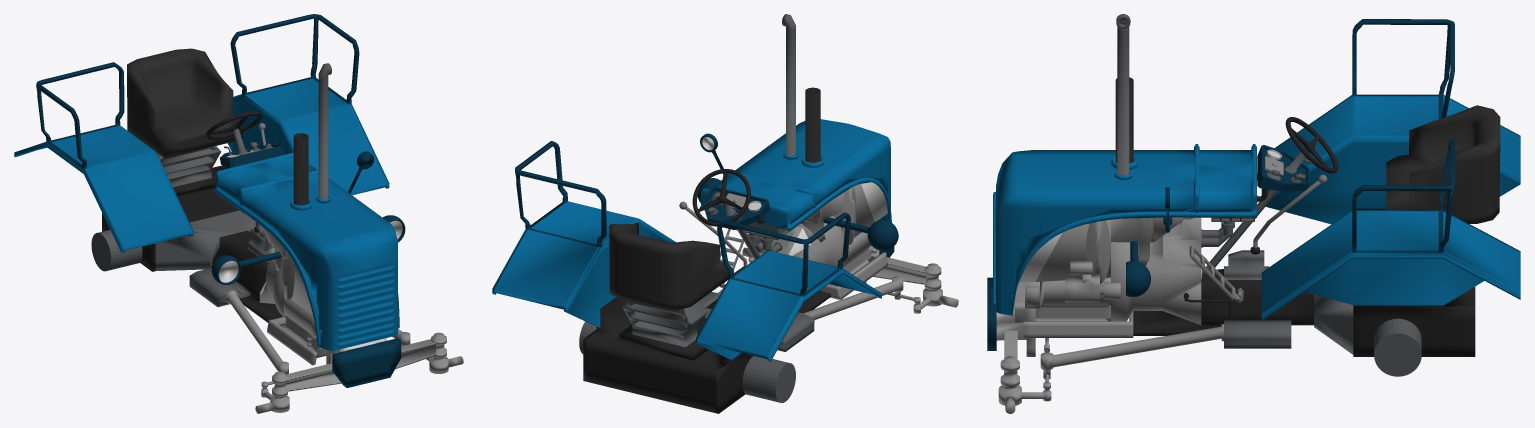
The model's file is tractor8.fbx.
3 views of the same model, side by side, from view 1: azimuth 30°, elevation 25°; view 2: azimuth 150°, elevation 25°; view 3: azimuth 270°, elevation 25° (orthographic). The views are drawn at different scales.
Visible parts, largest first — view 1: Model, steering_wheel; view 2: Model, steering_wheel; view 3: Model, steering_wheel, Pedal, gear_shift_lever.
Boxes of the visible parts, x1,y1,x2,y2 form: Model: (14,14,463,413); steering_wheel: (206,111,261,139); Model: (492,14,958,413); steering_wheel: (692,169,750,226); Model: (987,14,1520,413); steering_wheel: (1285,117,1338,173); Pedal: (1189,245,1243,302); gear_shift_lever: (1253,174,1327,247).
Bounding box in the file's own units: 876 × 845 × 1174.
